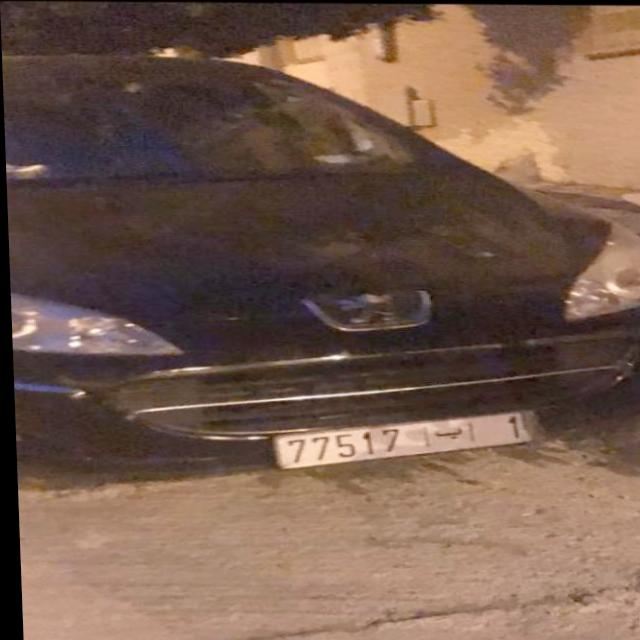License-Plate: (274, 411, 530, 468)
